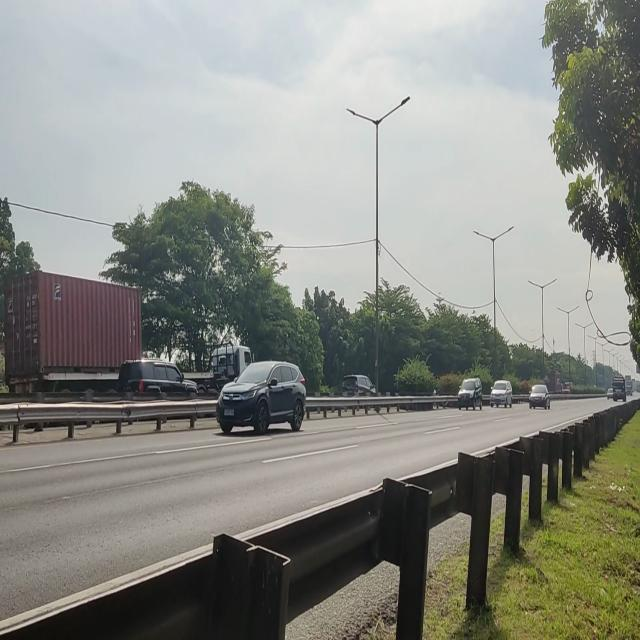Golongan I: (212, 346, 313, 443)
